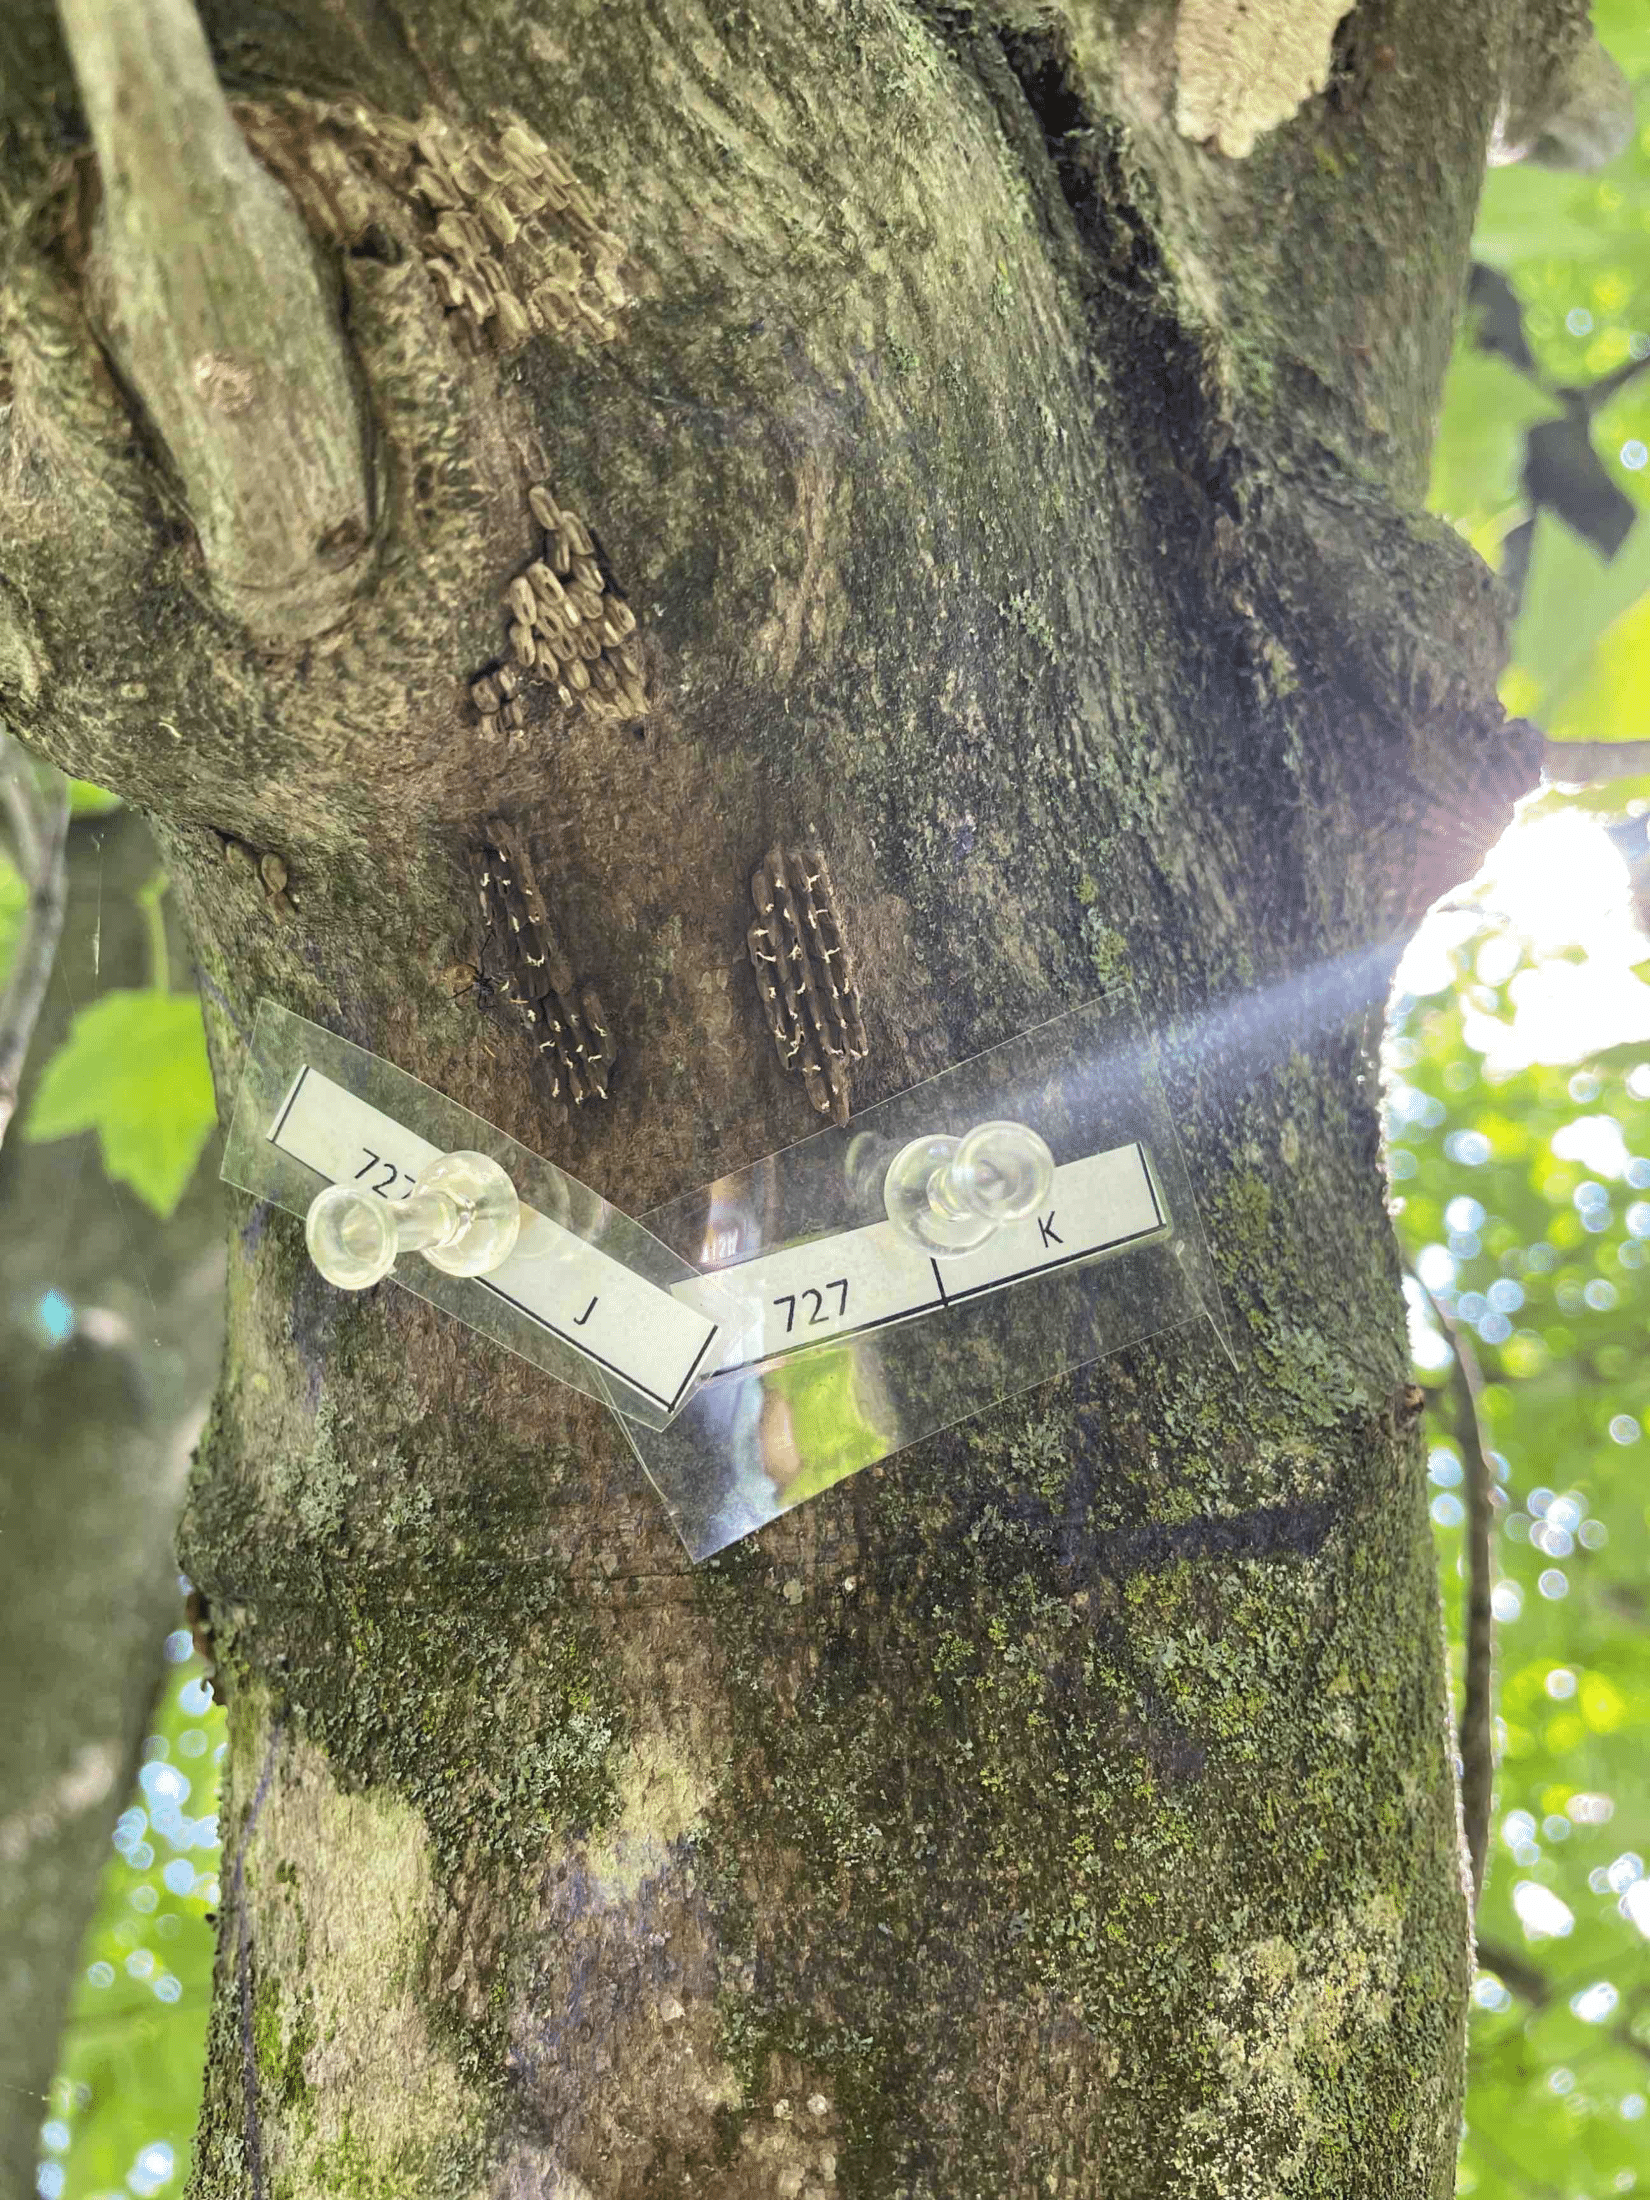egg masses: (697, 811, 906, 1147), (416, 802, 648, 1095)
